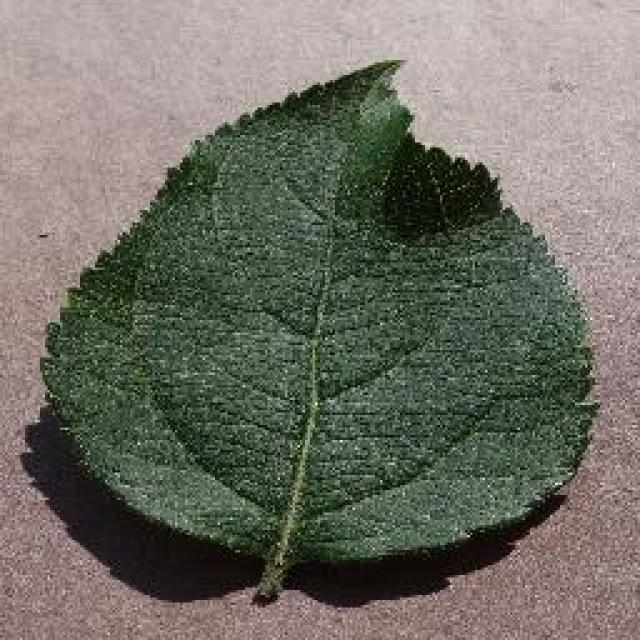apple healthy: (38, 55, 600, 600)
